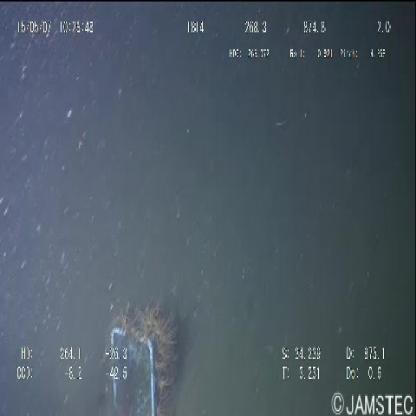Rác: (106, 313, 166, 416)
